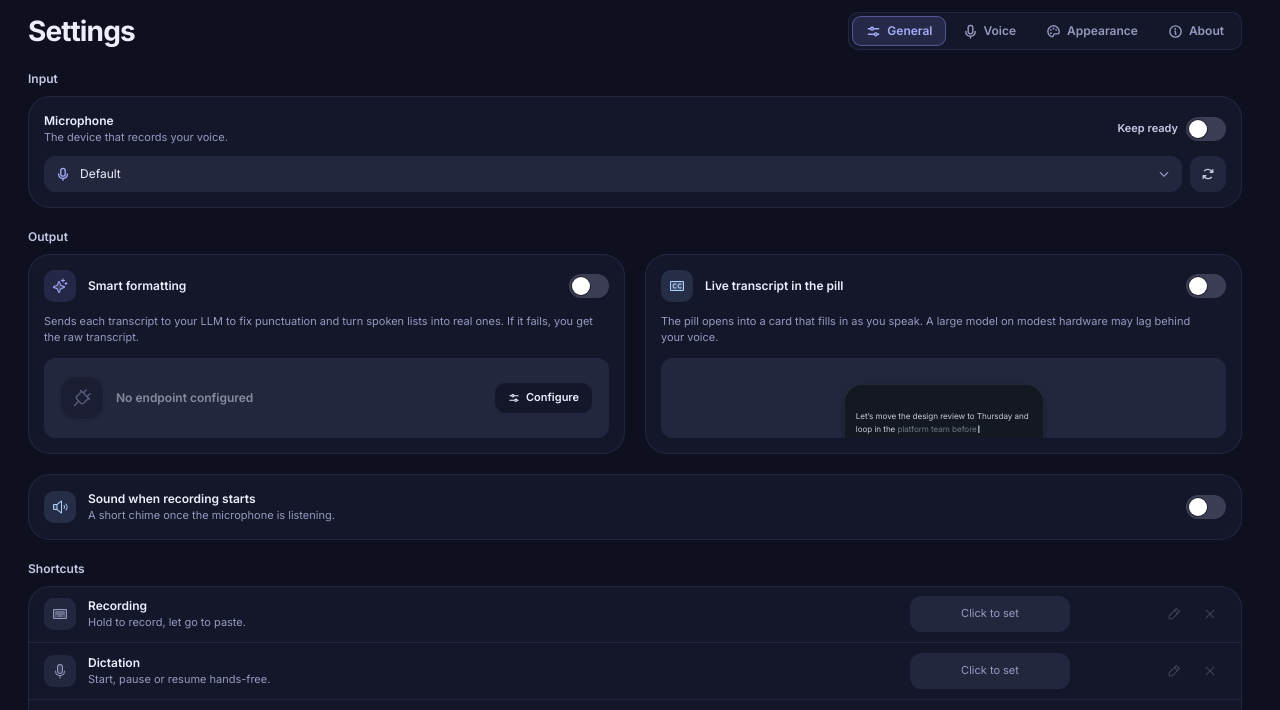
Test: HotkeySection › cancels and clears pressed keys
This screenshot has width=1280, height=710.
Click the button with aria-label "click to record recording hotkey". click: (990, 614)
box: [910,596,1070,632]
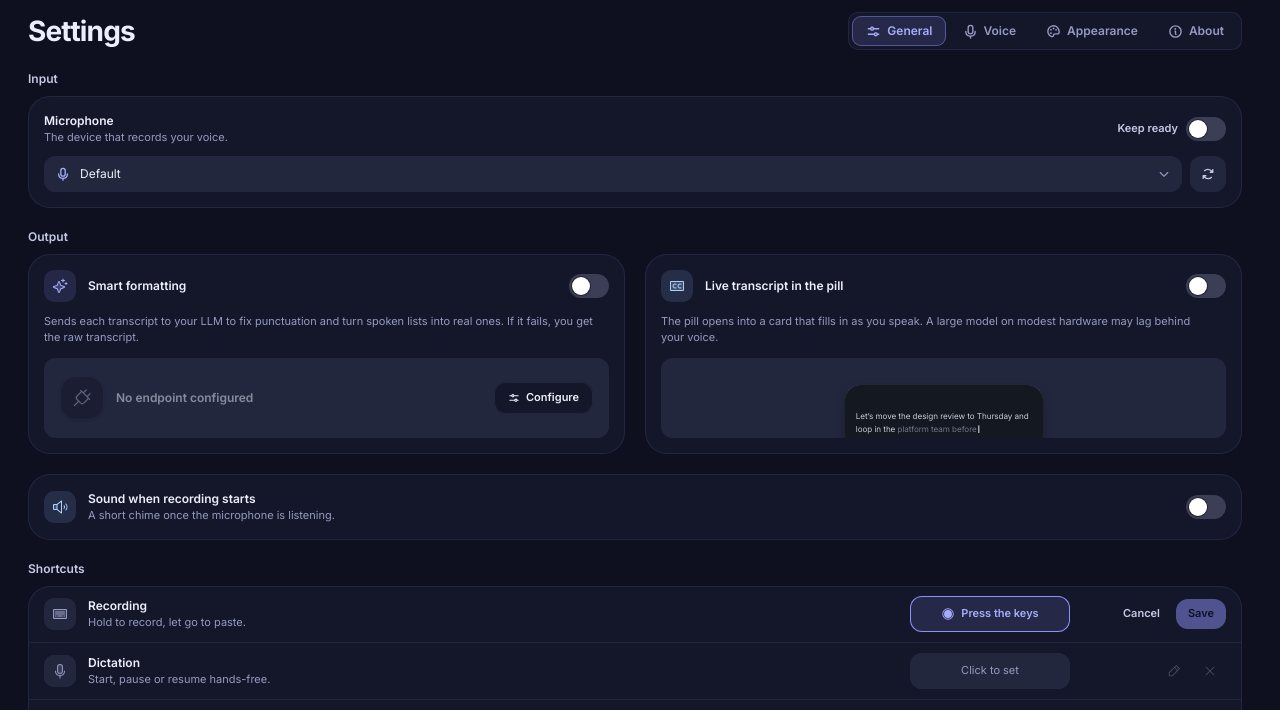
Press Control
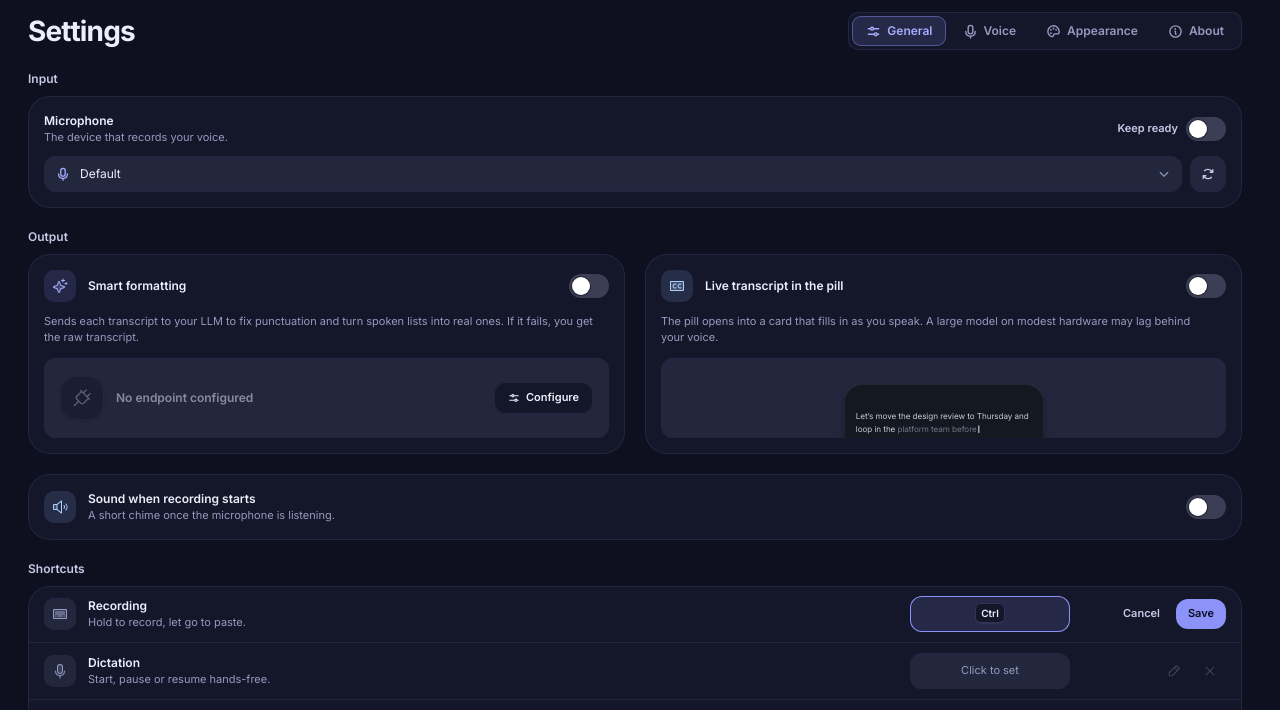
Click the button "Cancel". click: (1142, 614)
box: [1111,599,1172,629]
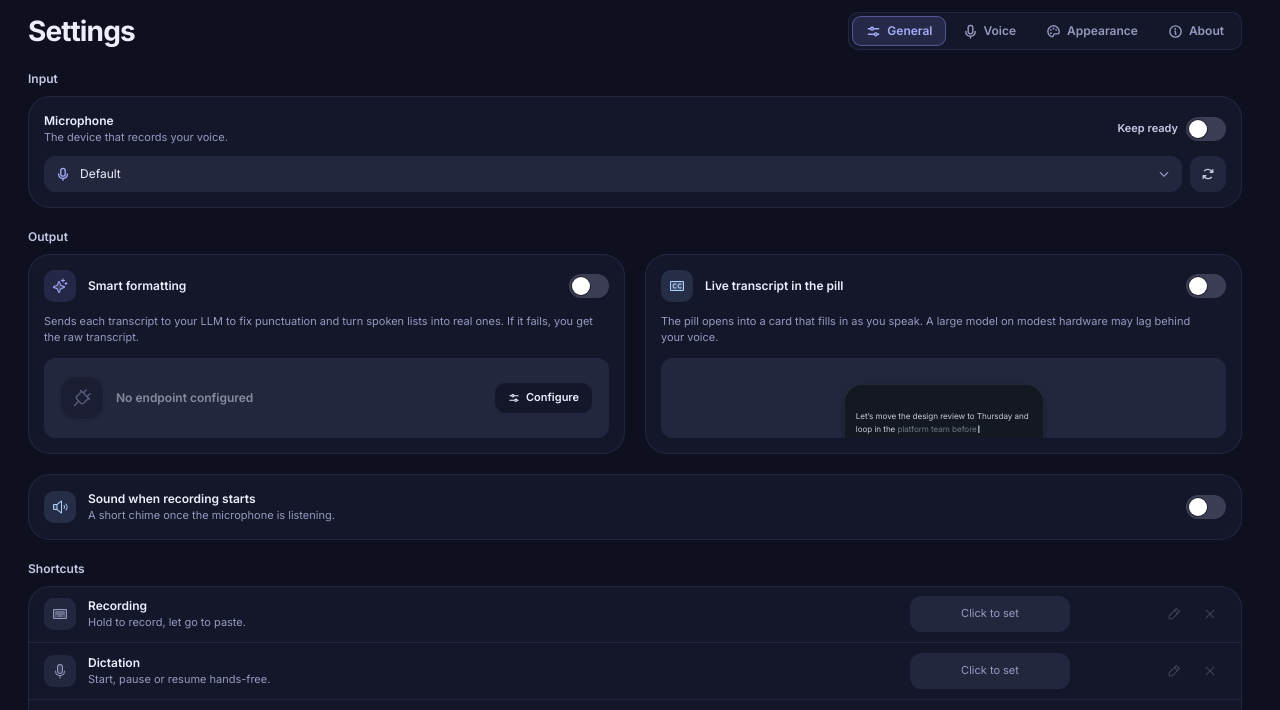
expect the text "Click to set" in the row of "Hold to record, let go to paste." is shown: met, box [961,606,1019,620]
